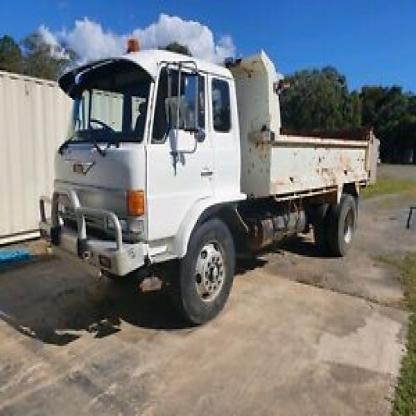dump_truck: (40, 39, 383, 320)
